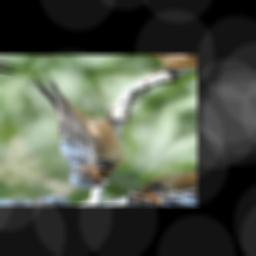Swallow: (0, 62, 182, 197)
